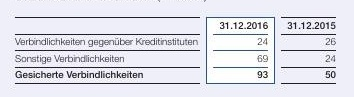table: (0, 0, 354, 97)
